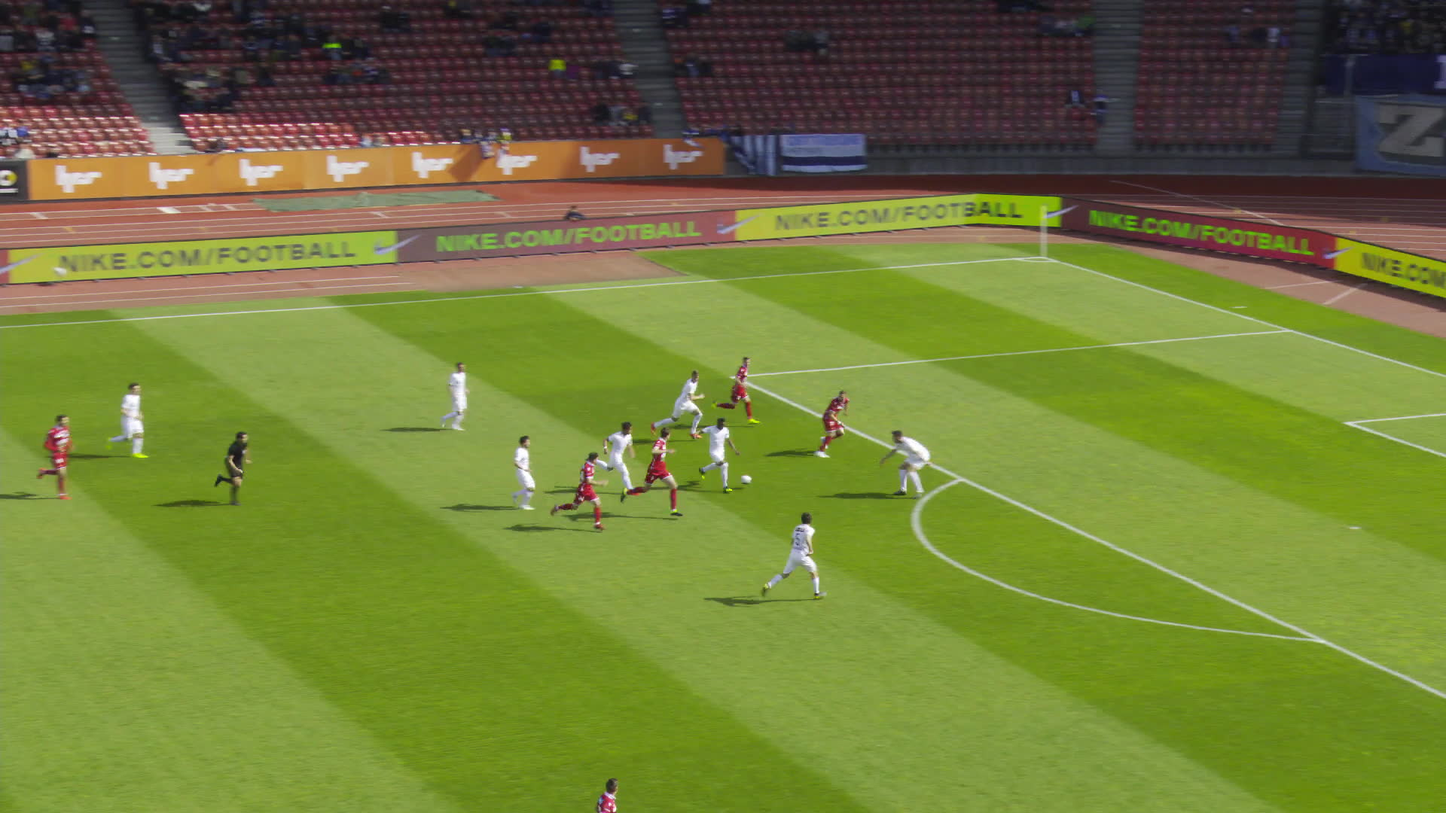ball: (737, 473, 746, 483)
player: (775, 514, 831, 607), (502, 432, 555, 508), (639, 427, 682, 515), (889, 431, 943, 498), (48, 412, 90, 497), (808, 386, 858, 457), (563, 452, 609, 528), (116, 382, 157, 461), (440, 361, 484, 430), (672, 373, 712, 444), (603, 418, 637, 490), (726, 358, 759, 425), (704, 416, 736, 485), (590, 775, 620, 812)
referee: (215, 428, 262, 503)
